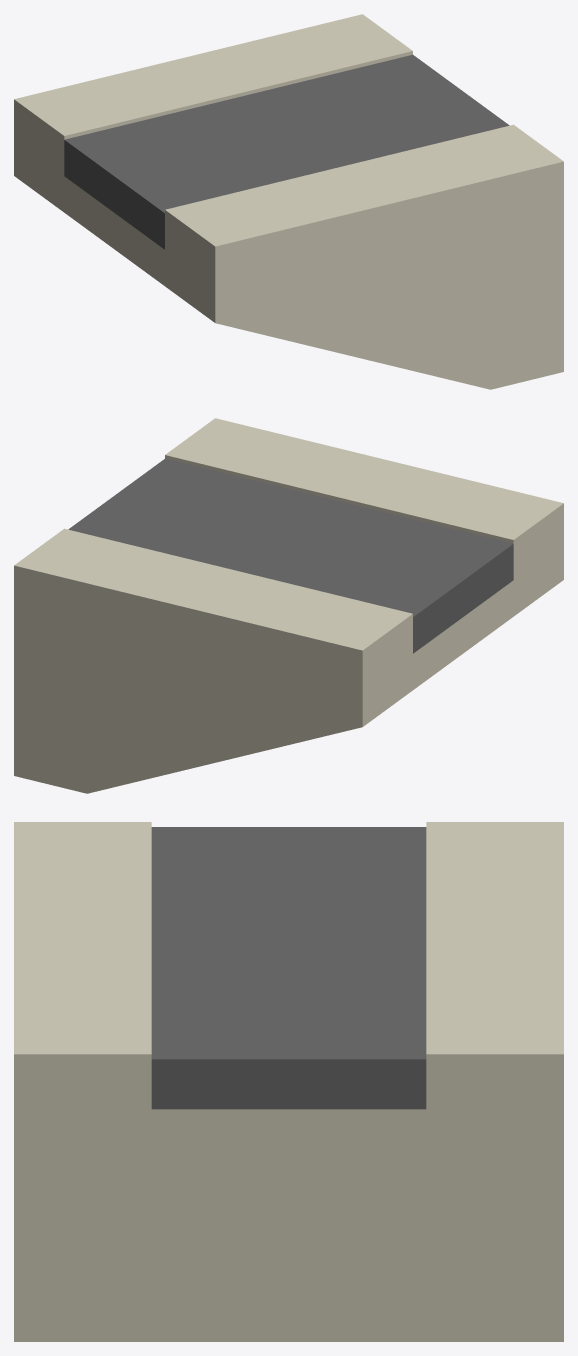
The model's file is roadTile_202.fbx.
3 views of the same model, one above another, from view 1: azimuth 30°, elevation 25°; view 2: azimuth 150°, elevation 25°; view 3: azimuth 270°, elevation 25° (orthographic). The views are drawn at different scales.
Parts seen in each view (by area): view 1: roadTile_202; view 2: roadTile_202; view 3: roadTile_202.
Boxes of the visible parts, left/top/right/bottom form: roadTile_202: left=14, top=14, right=563, bottom=389; roadTile_202: left=14, top=418, right=563, bottom=793; roadTile_202: left=14, top=822, right=563, bottom=1341.
Bounding box in the file's own units: 118 × 68.11 × 118.
